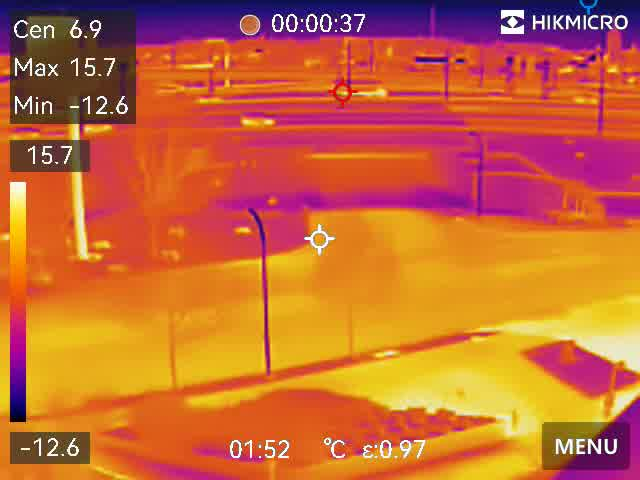vehicle: (237, 110, 278, 128), (571, 94, 599, 105)
